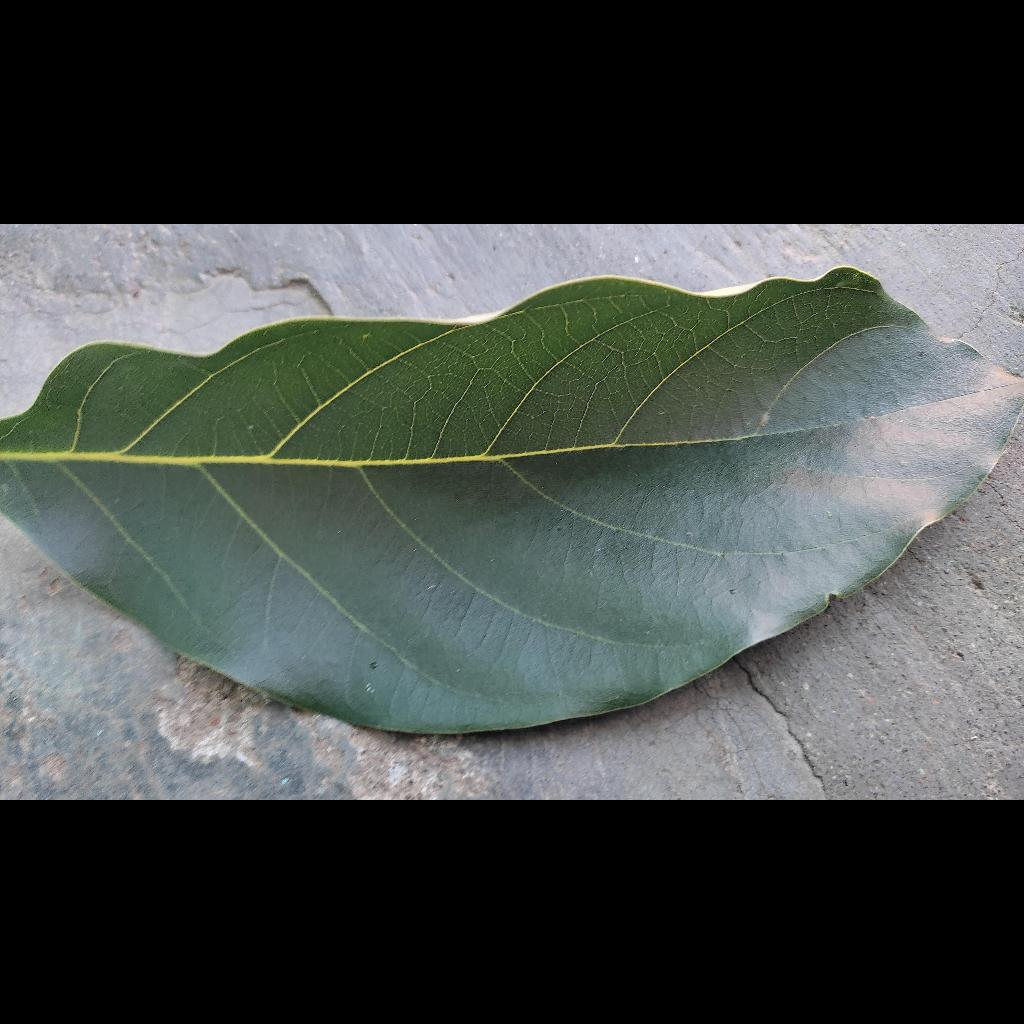Healthy: (0, 268, 1024, 732)
